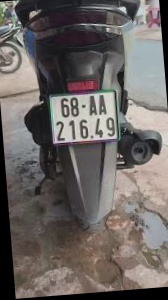Bien-so: (45, 94, 113, 146)
